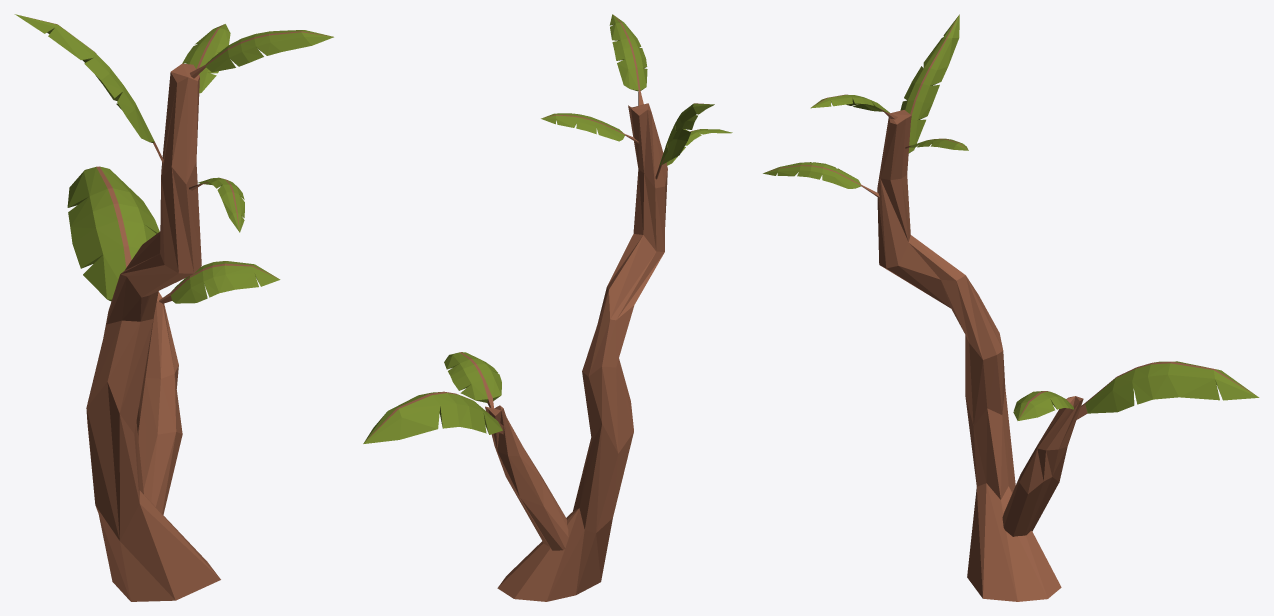
Rendered from Palm Tree_1_6.fbx.
The picture shows the model from 3 angles, left to right: view 1: azimuth 30°, elevation 25°; view 2: azimuth 150°, elevation 25°; view 3: azimuth 270°, elevation 25°; orthographic projection. The views are drawn at different scales.
Parts seen in each view (by area): view 1: Palm Tree_1_6; view 2: Palm Tree_1_6; view 3: Palm Tree_1_6.
Boxes of the visible parts, x1,y1,x2,y2 form: Palm Tree_1_6: (14, 14, 333, 601); Palm Tree_1_6: (363, 14, 732, 601); Palm Tree_1_6: (763, 14, 1259, 601).
Bounding box in the file's own units: 2.35 × 4.68 × 4.22.
